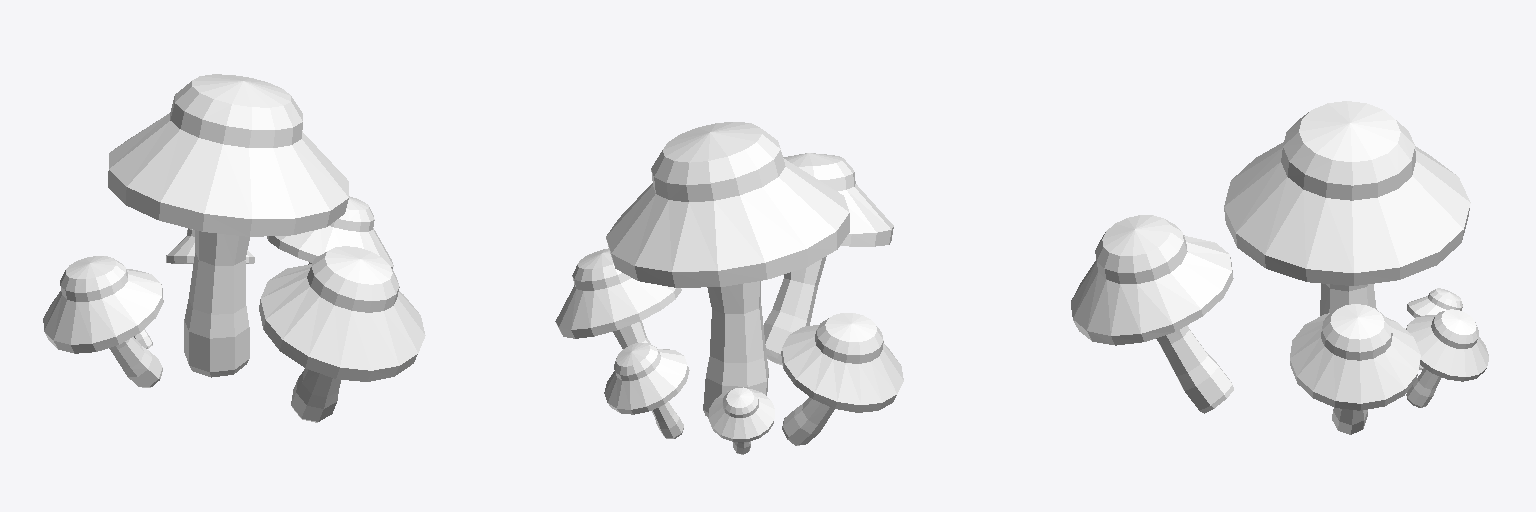
Rendered from Mushroom_02.obj.
3 renders of one model, left to right at view 1: azimuth 30°, elevation 25°; view 2: azimuth 150°, elevation 25°; view 3: azimuth 270°, elevation 25°, orthographic.
Visible parts, largest first — view 1: Mushroom_02_Circle.049; view 2: Mushroom_02_Circle.049; view 3: Mushroom_02_Circle.049.
Part boxes in pixels (bbox=[...]): Mushroom_02_Circle.049: bbox=[43, 74, 425, 422]; Mushroom_02_Circle.049: bbox=[555, 122, 903, 454]; Mushroom_02_Circle.049: bbox=[1071, 101, 1488, 434].
Size of the model in its own units: 0.7165 by 0.5944 by 0.7835.